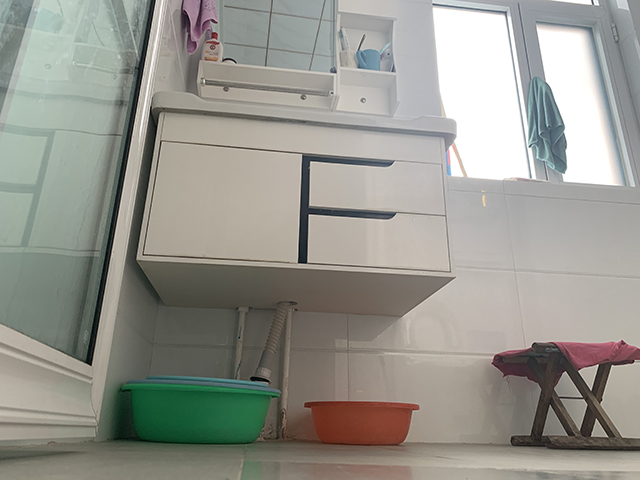stool: (488, 338, 640, 451)
